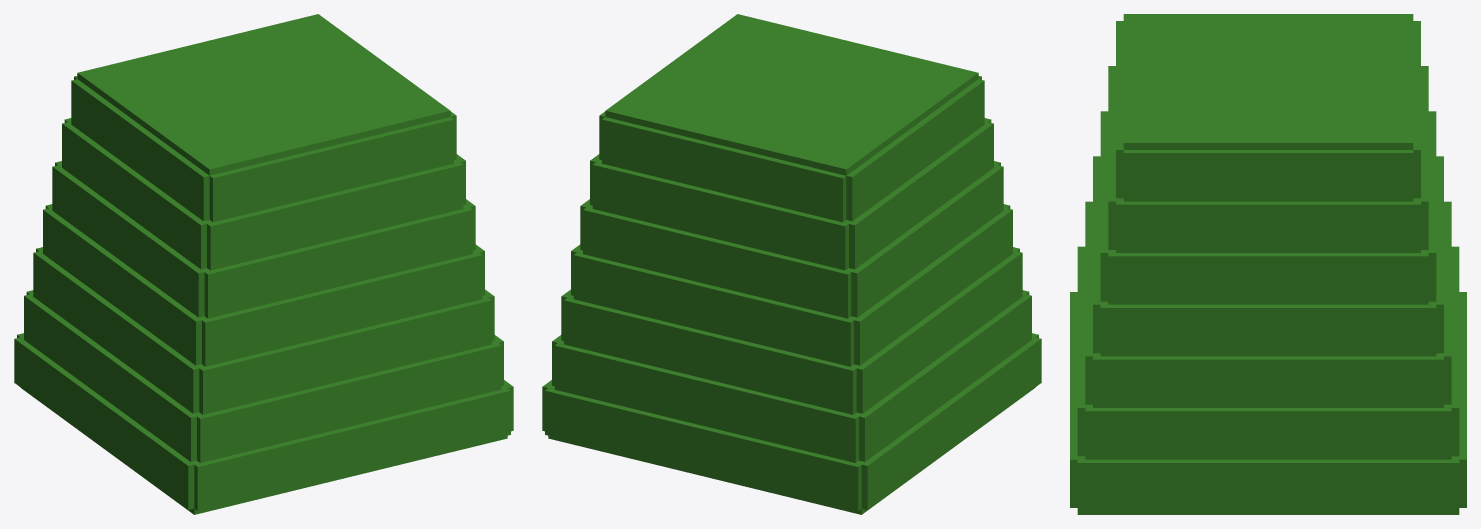
Rendered from Tree01_Upper.fbx.
The picture shows the model from 3 angles, left to right: view 1: azimuth 30°, elevation 25°; view 2: azimuth 150°, elevation 25°; view 3: azimuth 270°, elevation 25°; orthographic projection. The views are drawn at different scales.
Visible parts, largest first — view 1: Tree01_Upper; view 2: Tree01_Upper; view 3: Tree01_Upper.
Part boxes in pixels (x1,y1,x2,y2): Tree01_Upper: [14, 14, 513, 514]; Tree01_Upper: [542, 14, 1041, 514]; Tree01_Upper: [1070, 14, 1466, 514].
Size of the model in its own units: 338 by 319 by 325.
